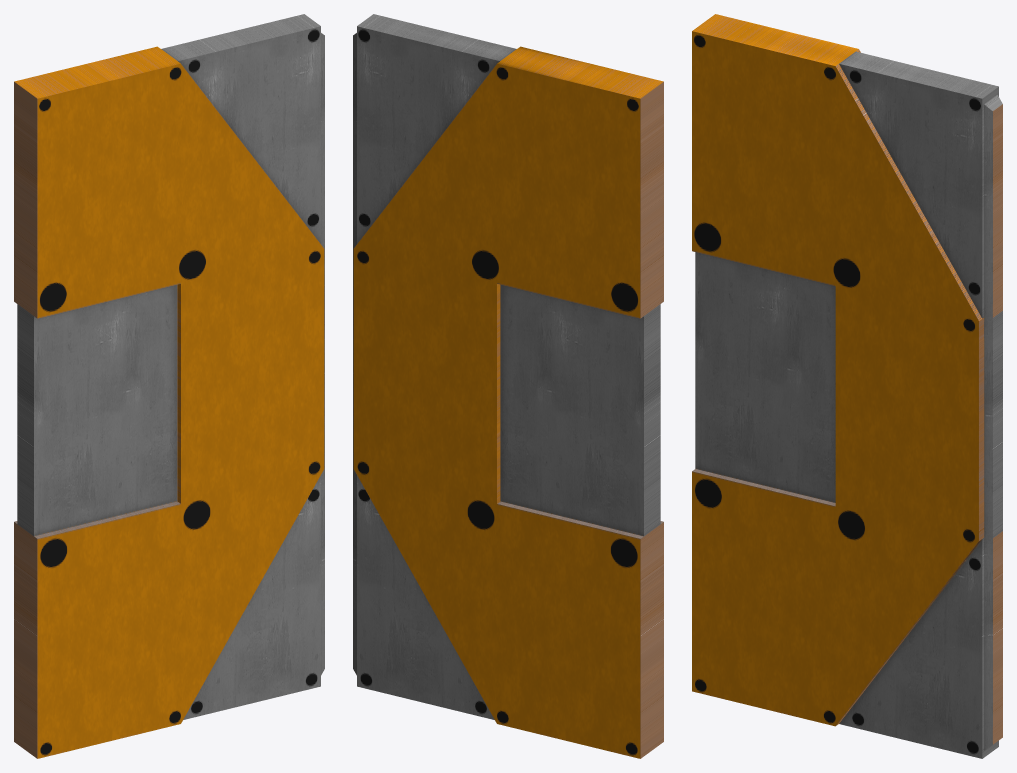
The model's file is Door_S_Out.fbx.
The picture shows the model from 3 angles, left to right: view 1: azimuth 30°, elevation 25°; view 2: azimuth 150°, elevation 25°; view 3: azimuth 330°, elevation 25°; orthographic projection.
Visible parts, largest first — view 1: Door_S_Out; view 2: Door_S_Out; view 3: Door_S_Out.
Boxes of the visible parts, bbox=[...] form: Door_S_Out: bbox=[14, 14, 324, 758]; Door_S_Out: bbox=[353, 14, 663, 758]; Door_S_Out: bbox=[692, 14, 1002, 758].
Bounding box in the file's own units: 1.01 × 2.18 × 0.14.
1 material, 1 textured.
